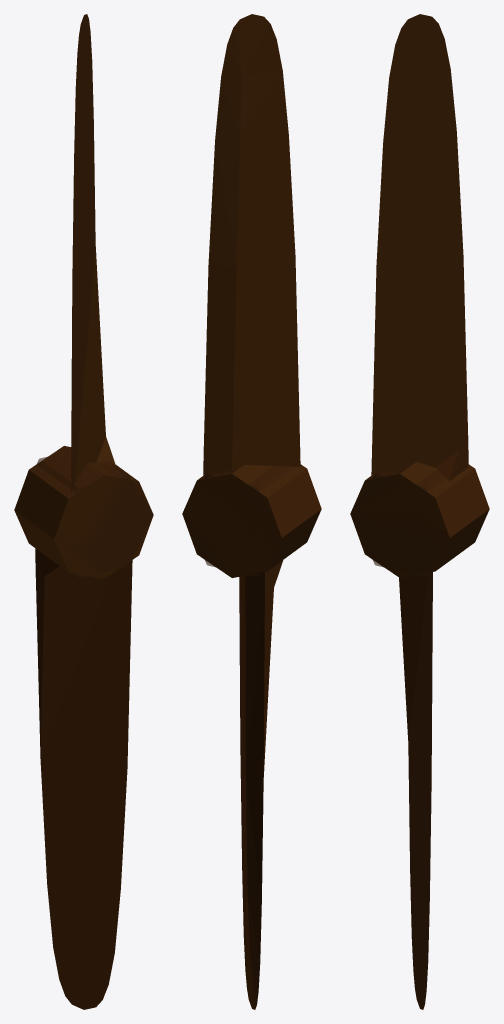
The model's file is Prop_osuitei.obj.
The picture shows the model from 3 angles, left to right: view 1: azimuth 30°, elevation 25°; view 2: azimuth 150°, elevation 25°; view 3: azimuth 330°, elevation 25°; orthographic projection.
Parts seen in each view (by area): view 1: ShapeIndexedFaceSet.029_ShapeIndexedFaceSet.030, ShapeIndexedFaceSet.118_ShapeIndexedFaceSet; view 2: ShapeIndexedFaceSet.029_ShapeIndexedFaceSet.030, ShapeIndexedFaceSet.118_ShapeIndexedFaceSet; view 3: ShapeIndexedFaceSet.029_ShapeIndexedFaceSet.030, ShapeIndexedFaceSet.118_ShapeIndexedFaceSet.
Part boxes in pixels (x1,y1,x2,y2): ShapeIndexedFaceSet.029_ShapeIndexedFaceSet.030: (14,14,153,1009); ShapeIndexedFaceSet.118_ShapeIndexedFaceSet: (36,456,152,578); ShapeIndexedFaceSet.029_ShapeIndexedFaceSet.030: (182,14,321,1009); ShapeIndexedFaceSet.118_ShapeIndexedFaceSet: (184,463,294,577); ShapeIndexedFaceSet.029_ShapeIndexedFaceSet.030: (350,14,489,1009); ShapeIndexedFaceSet.118_ShapeIndexedFaceSet: (351,469,448,577).
Size of the model in its own units: 2.6 by 24.8 by 1.8.
